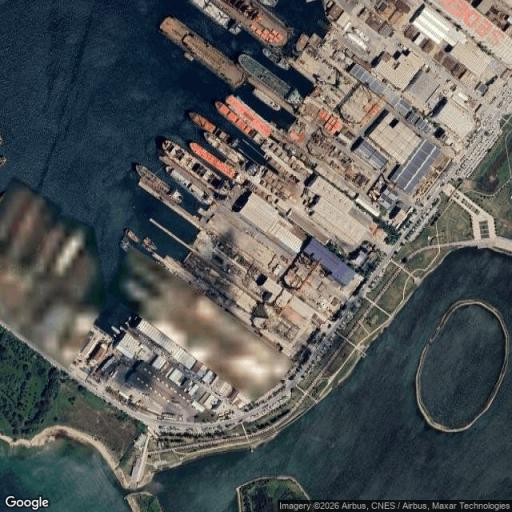ship: (160, 17, 244, 87), (161, 139, 232, 196), (212, 0, 289, 47), (239, 54, 302, 107), (239, 54, 291, 98), (189, 142, 243, 182), (215, 101, 264, 143), (165, 166, 213, 205), (136, 166, 184, 204), (190, 0, 241, 34), (189, 112, 235, 144), (204, 132, 246, 167), (253, 88, 280, 111), (263, 48, 290, 70), (286, 88, 303, 107), (142, 237, 157, 252), (124, 228, 139, 243), (296, 34, 309, 51), (229, 22, 242, 35), (120, 236, 130, 251), (258, 0, 278, 7), (109, 325, 120, 334), (184, 52, 194, 61), (0, 156, 7, 167), (0, 133, 3, 145), (0, 134, 3, 145), (0, 134, 3, 144)
